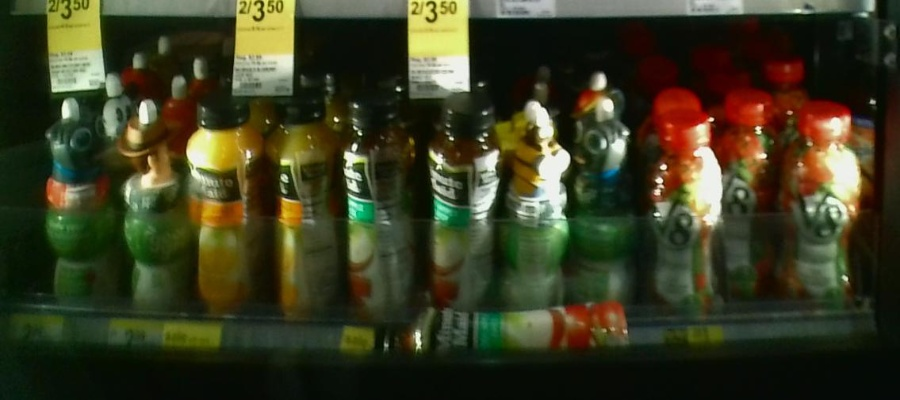bottle: (423, 89, 502, 311), (341, 95, 417, 322), (190, 91, 264, 318), (781, 104, 862, 311), (267, 89, 339, 320), (113, 95, 186, 316), (651, 106, 722, 316), (40, 95, 109, 311), (507, 98, 570, 314), (572, 101, 634, 305), (725, 91, 772, 305)
